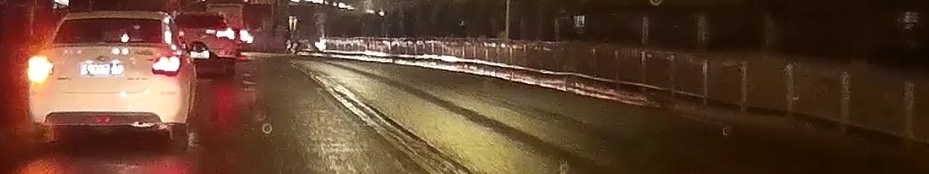L_light: (27, 57, 53, 76)
R_light: (151, 55, 182, 76)
T_light: (101, 17, 122, 23)
night-left: (27, 11, 183, 149)
